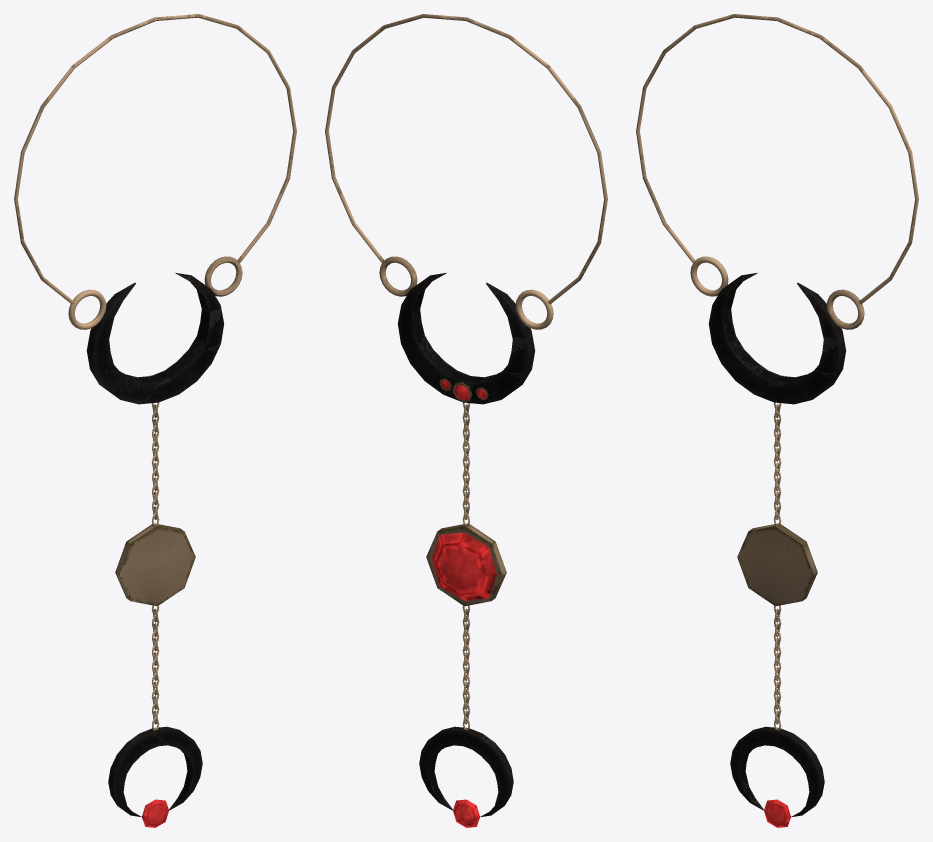
File: necklace_c2fb0d2c.glb
3 views of the same model, side by side, from view 1: azimuth 30°, elevation 25°; view 2: azimuth 150°, elevation 25°; view 3: azimuth 330°, elevation 25° (orthographic).
Visible parts, largest first — view 1: MoonUp_low, medallion_low, necklace_low, MoonDown_low, Ornament_low, chain2_low, chain1_low, gem4_low; view 2: MoonUp_low, gem_low, necklace_low, MoonDown_low, medallion_low, Ornament_low, chain2_low, chain1_low, gem4_low; view 3: MoonUp_low, medallion_low, necklace_low, MoonDown_low, Ornament_low, chain2_low, chain1_low, gem4_low.
Part boxes in pixels (x1,y1,x2,y2): MoonUp_low: (86,273,224,404); medallion_low: (115,523,195,606); necklace_low: (14,14,296,304); MoonDown_low: (108,726,202,817); Ornament_low: (68,256,242,329); chain2_low: (151,605,159,730); chain1_low: (151,402,159,526); gem4_low: (142,799,168,827); MoonUp_low: (397,273,535,404); gem_low: (431,532,496,600); necklace_low: (325,14,607,304); MoonDown_low: (419,726,513,817); medallion_low: (426,523,506,606); Ornament_low: (379,256,553,329); chain2_low: (462,605,470,730); chain1_low: (462,402,470,526); gem4_low: (453,799,479,827); MoonUp_low: (708,273,846,404); medallion_low: (737,523,817,606); necklace_low: (636,14,918,304); MoonDown_low: (730,726,824,817); Ornament_low: (690,256,864,329); chain2_low: (773,605,781,730); chain1_low: (773,402,781,526); gem4_low: (764,799,790,827).
Bounding box in the file's own units: 0.7297 × 2 × 0.0529.
1 material, 1 textured.
